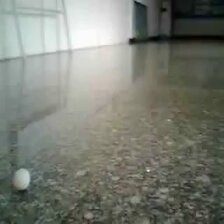tennis: (138, 110, 163, 142), (43, 82, 62, 104), (51, 56, 63, 76)
